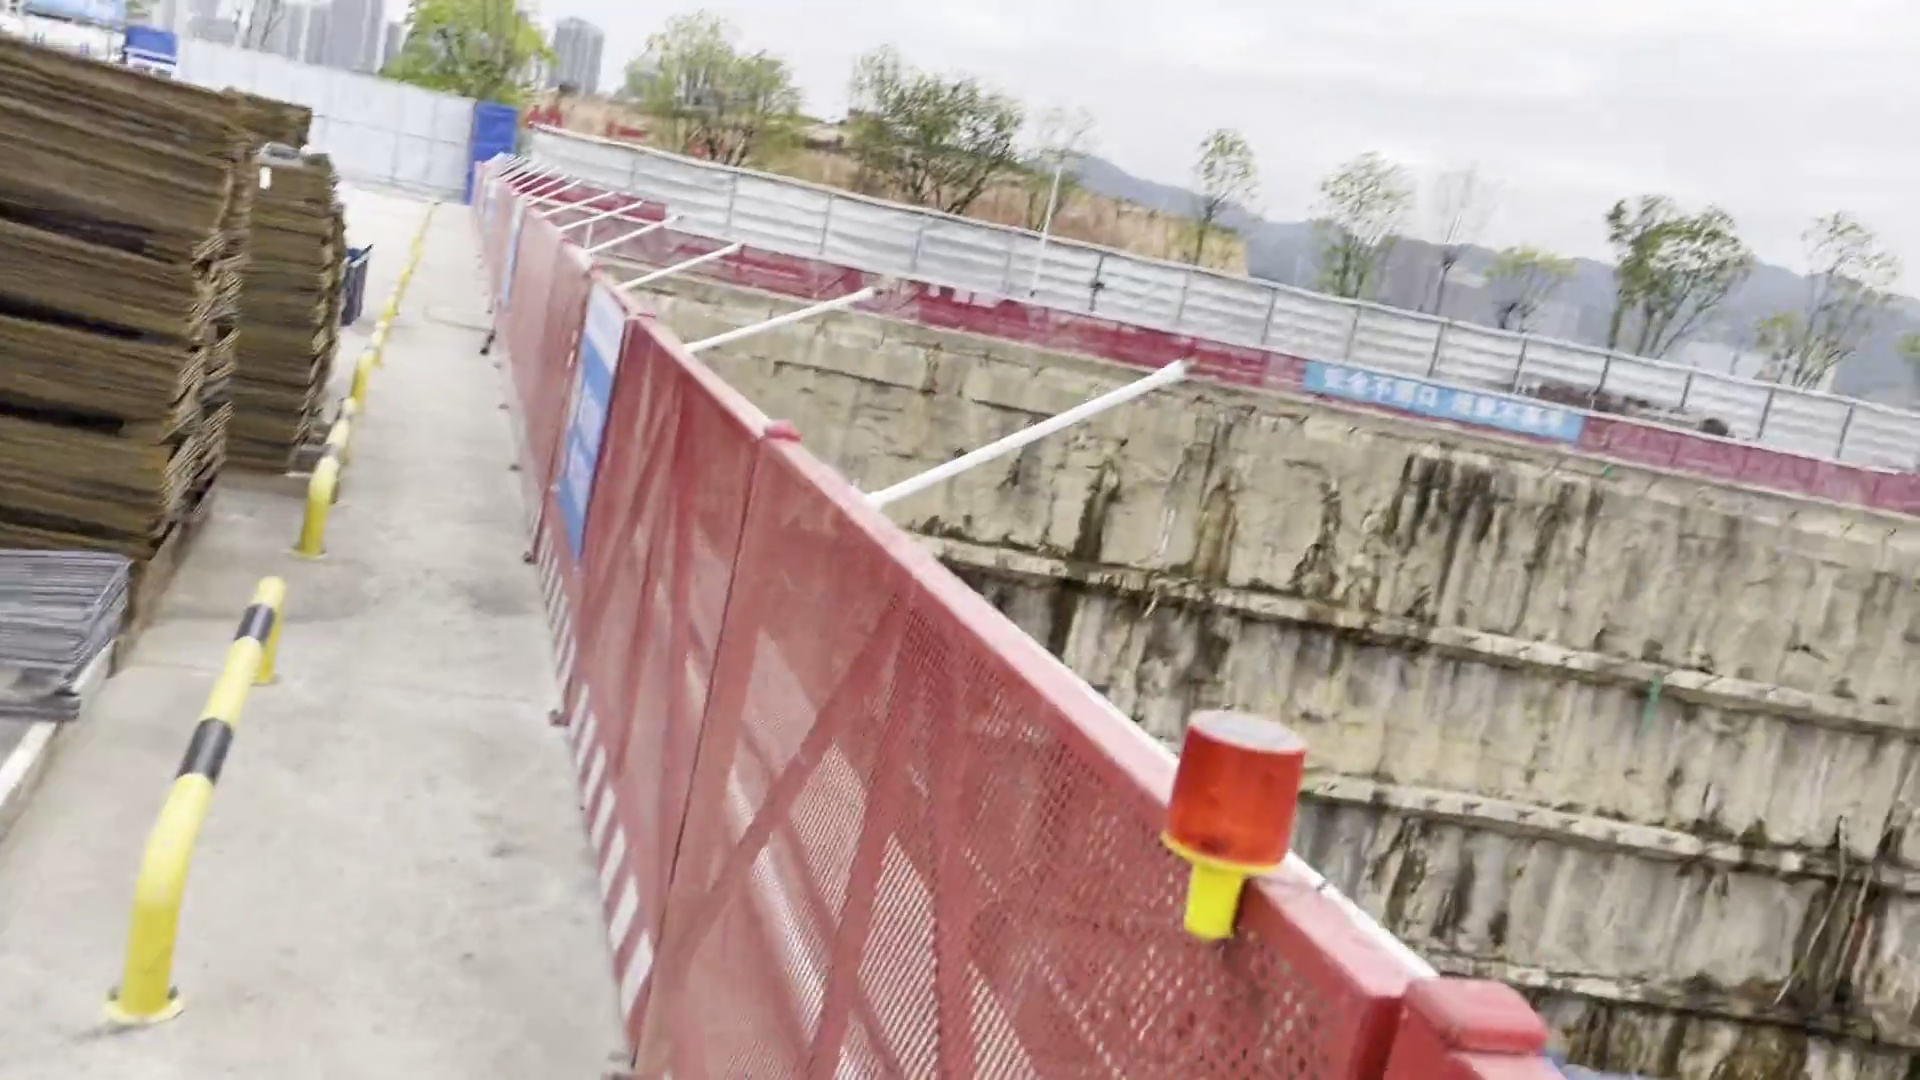fence: (806, 477, 1573, 1080), (554, 345, 833, 1080), (450, 150, 663, 665), (607, 223, 1044, 357), (1031, 301, 1437, 435), (1429, 381, 1745, 489), (1725, 431, 1920, 520)
hopper: (318, 220, 382, 349)
slogan: (1296, 353, 1602, 473), (545, 284, 642, 553), (495, 193, 538, 318)
